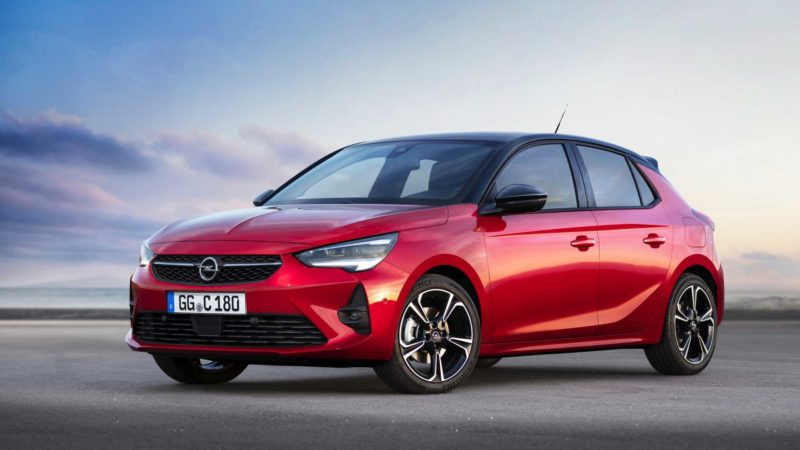araba: (127, 131, 726, 394)
